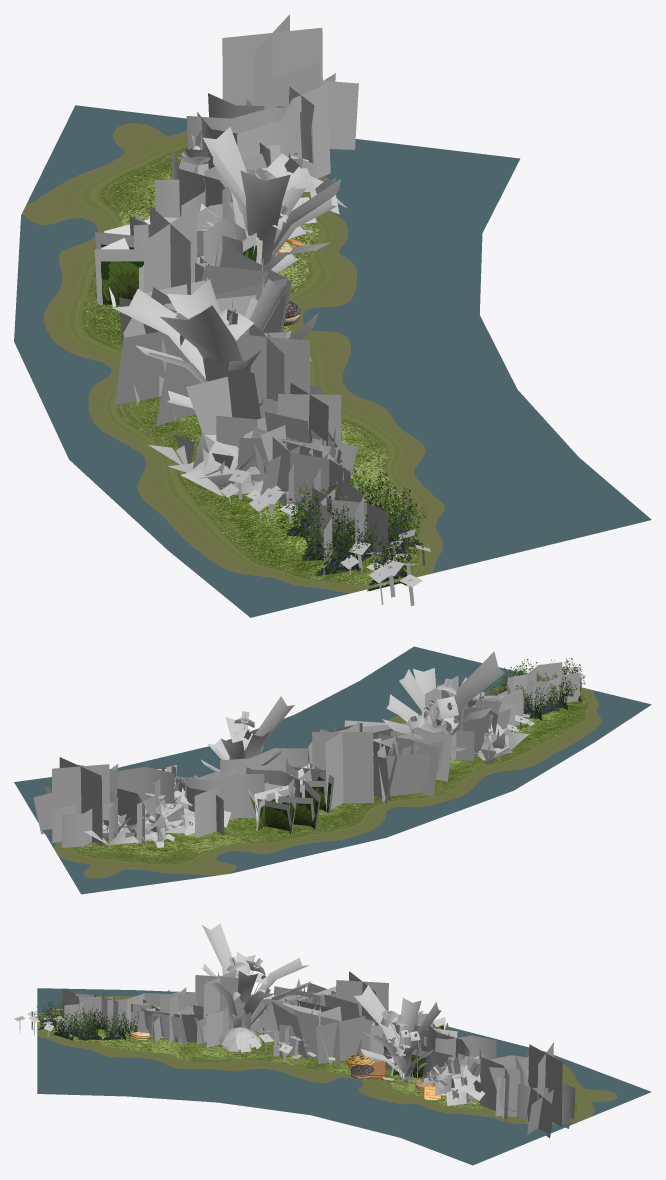
The model's file is Sc08_road_b2.fbx.
3 views of the same model, one above another, from view 1: azimuth 30°, elevation 25°; view 2: azimuth 150°, elevation 25°; view 3: azimuth 270°, elevation 25° (orthographic). The views are drawn at different scales.
Parts seen in each view (by area): view 1: rd_b2, bush_b2, h04_b2, h02_b2; view 2: rd_b2, bush_b2, h04_b2, h02_b2; view 3: rd_b2, bush_b2, h04_b2, h02_b2, Crackers_b2.
Part boxes in pixels (x1,y1,x2,y2): rd_b2: (14,105,651,617); bush_b2: (94,84,427,591); h04_b2: (143,14,430,605); h02_b2: (112,127,347,408); rd_b2: (14,646,651,894); bush_b2: (52,658,585,847); h04_b2: (33,666,586,846); h02_b2: (141,651,504,847); rd_b2: (37,988,651,1165); bush_b2: (35,978,575,1128); h04_b2: (14,969,562,1138); h02_b2: (202,923,485,1106); Crackers_b2: (130,1031,440,1099).
Size of the model in its own units: 515 by 143 by 783.
